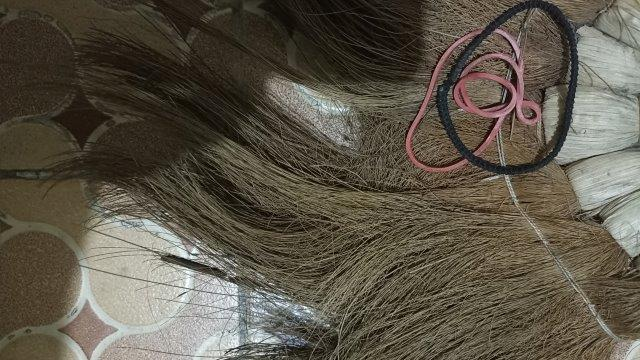karet: (404, 2, 579, 174)
